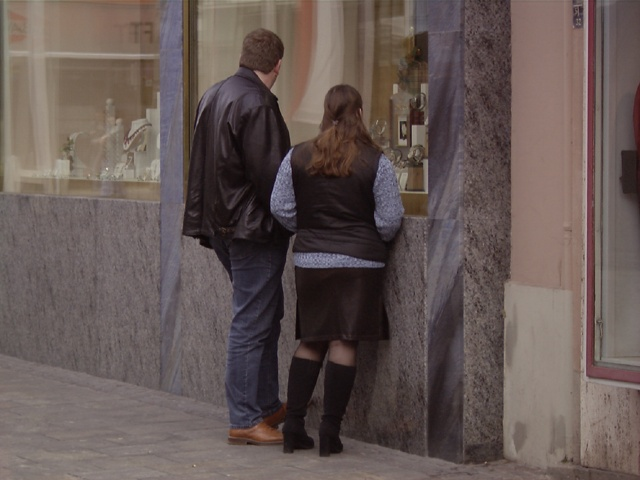person: (277, 89, 404, 458), (193, 26, 296, 443)
